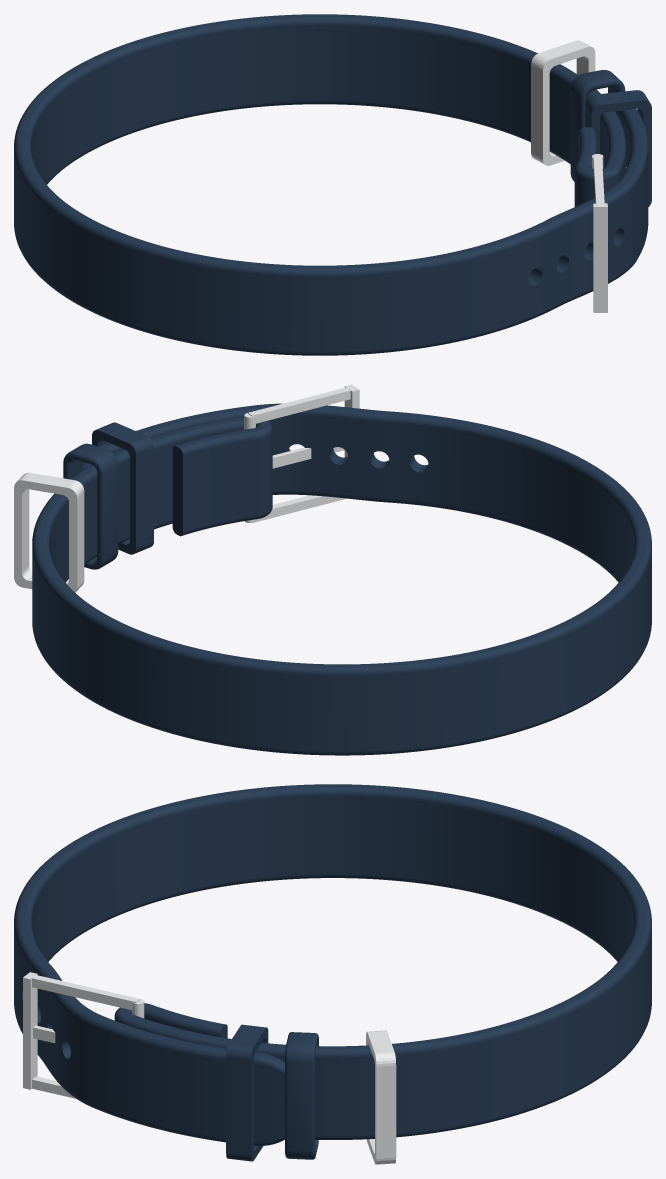
File: collar.glb
The picture shows the model from 3 angles, top to bottom: view 1: azimuth 30°, elevation 25°; view 2: azimuth 150°, elevation 25°; view 3: azimuth 270°, elevation 25°; orthographic projection. The views are drawn at different scales.
Parts seen in each view (by area): view 1: Collar_Strap, D_Ring, Buckle_Frame, Keeper_Loop, D_Ring_Wrap; view 2: Collar_Strap, D_Ring, Keeper_Loop, D_Ring_Wrap, Buckle_Frame, Buckle_Prong; view 3: Collar_Strap, Keeper_Loop, D_Ring_Wrap, Buckle_Frame, D_Ring.
Part boxes in pixels (left/top/right/bottom): Collar_Strap: left=14, top=14, right=648, bottom=355; D_Ring: left=531, top=40, right=595, bottom=165; Buckle_Frame: left=593, top=155, right=607, bottom=312; Keeper_Loop: left=585, top=90, right=651, bottom=206; D_Ring_Wrap: left=570, top=70, right=625, bottom=181; Collar_Strap: left=32, top=403, right=651, bottom=755; D_Ring: left=14, top=472, right=84, bottom=592; Keeper_Loop: left=92, top=422, right=153, bottom=554; D_Ring_Wrap: left=63, top=443, right=118, bottom=569; Buckle_Frame: left=248, top=384, right=359, bottom=522; Buckle_Prong: left=272, top=447, right=344, bottom=468; Collar_Strap: left=14, top=784, right=651, bottom=1145; Keeper_Loop: left=226, top=1024, right=268, bottom=1161; D_Ring_Wrap: left=285, top=1032, right=318, bottom=1159; Buckle_Frame: left=23, top=972, right=140, bottom=1098; D_Ring: left=366, top=1030, right=396, bottom=1164.
Size of the model in its own units: 3.38 by 0.637 by 3.19.
